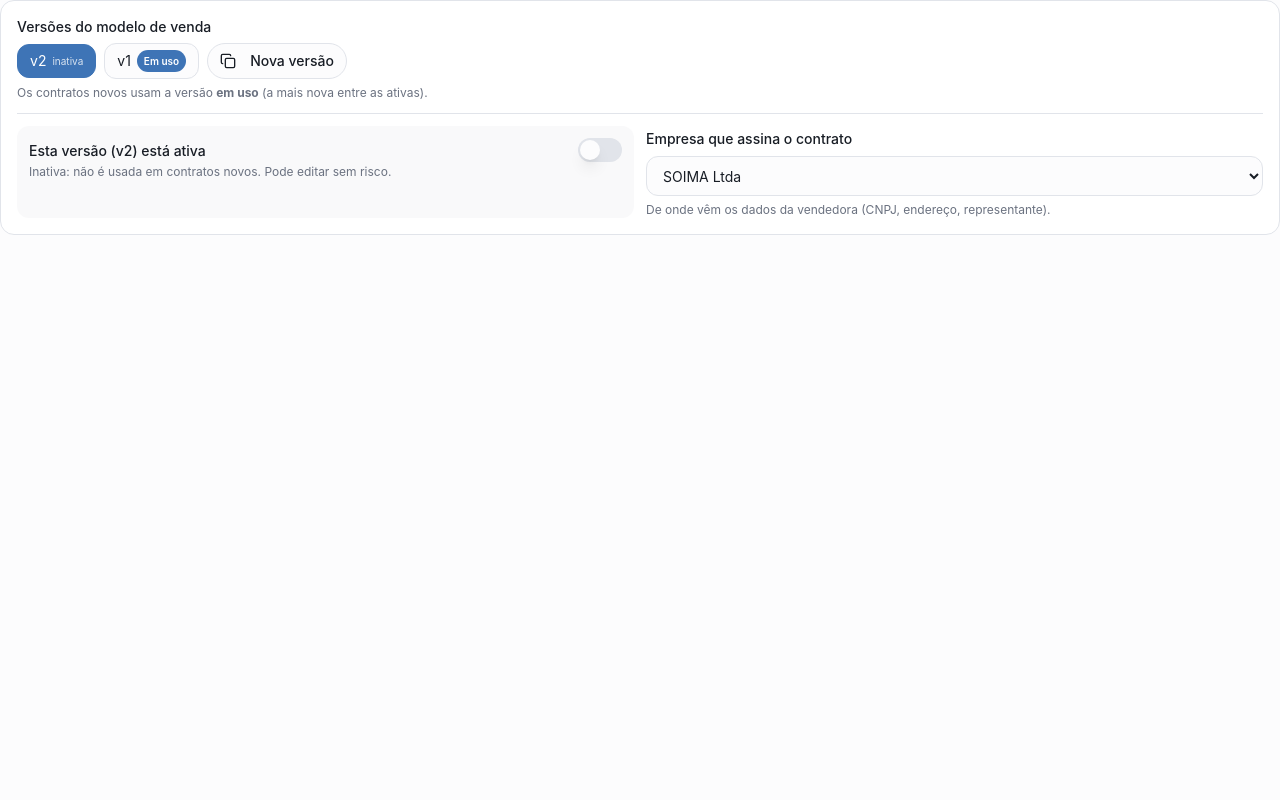
barra de versões do modelo › cancelar a confirmação não muda nada
Click the switch. click: (600, 150)
box: [578, 138, 622, 162]
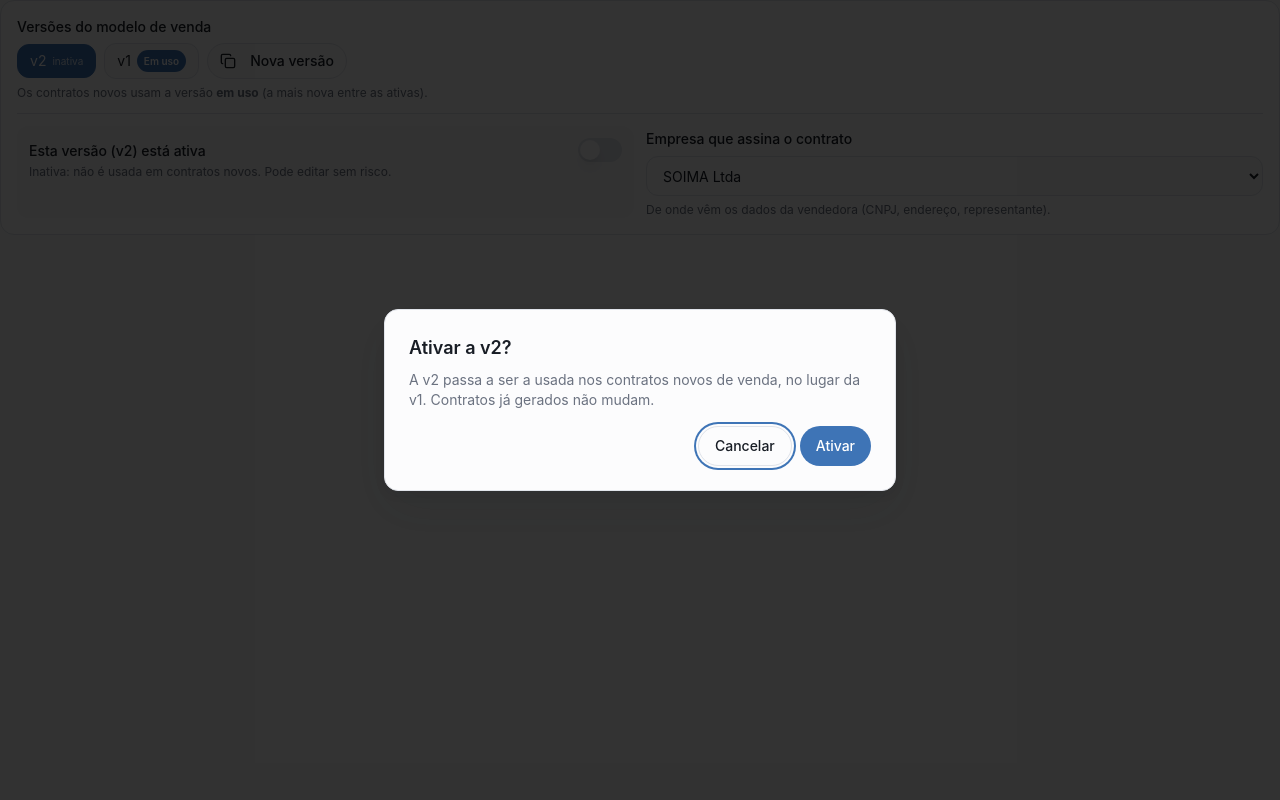
Click the button "Cancelar". click: (745, 446)
box: [698, 426, 792, 466]
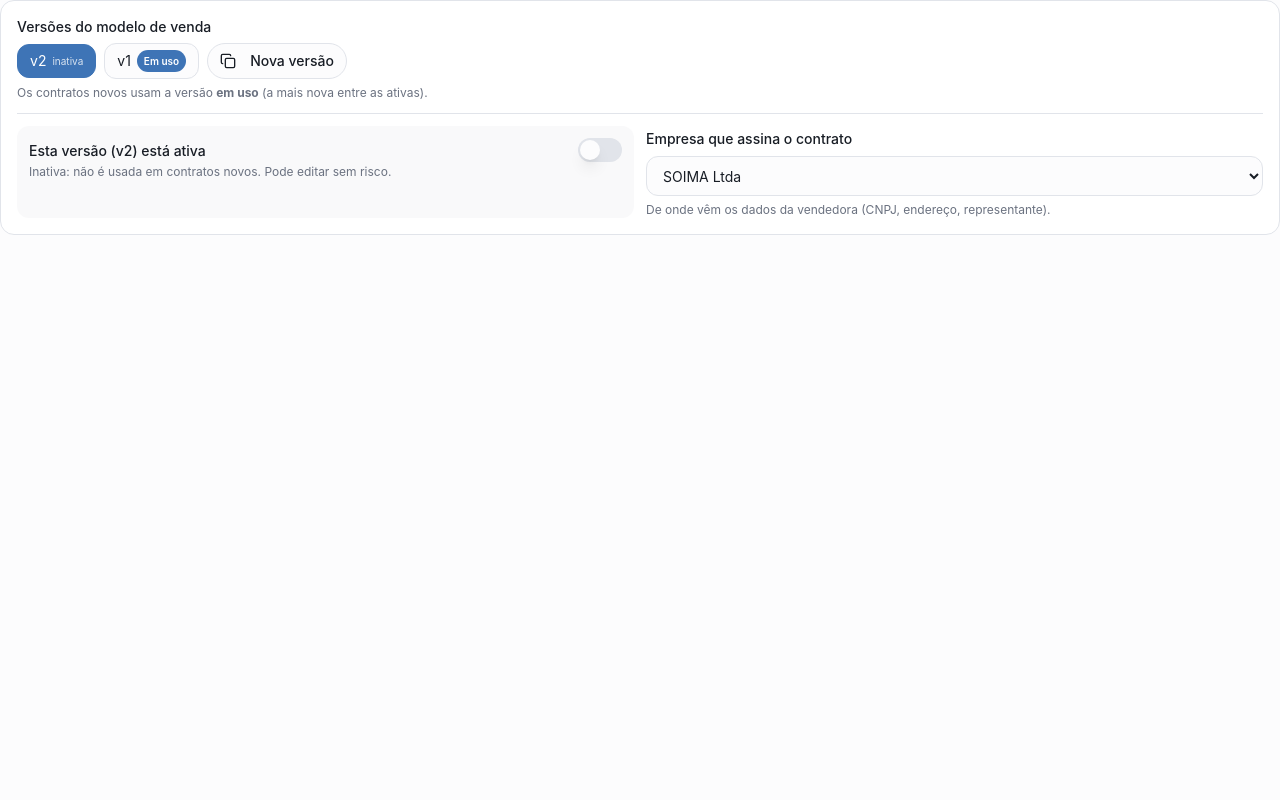
Check: the heading "Ativar a v2?" is gone
